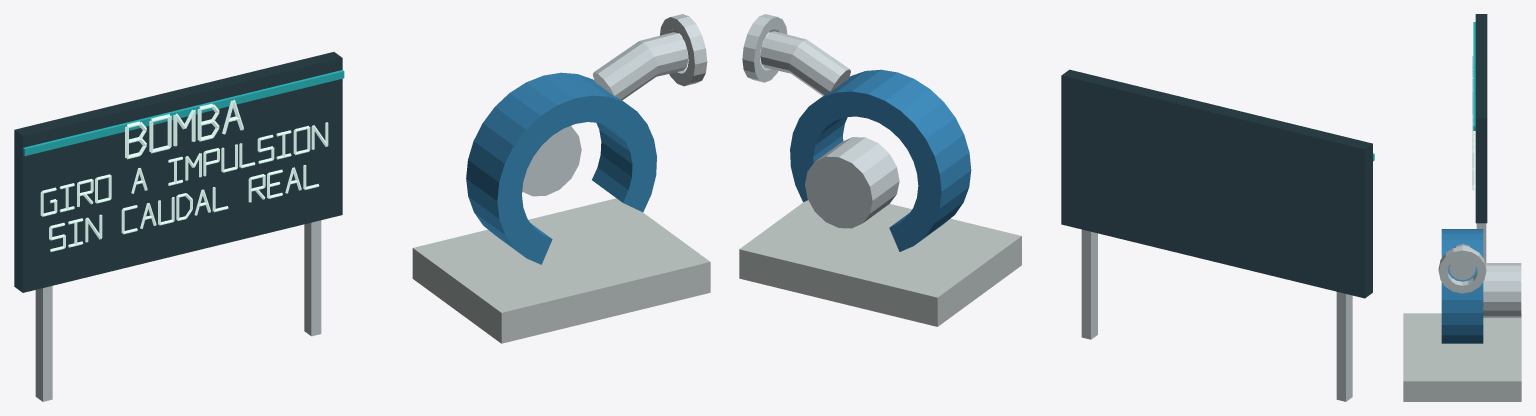
Rendered from AQUA-008.glb.
3 renders of one model, left to right at view 1: azimuth 30°, elevation 25°; view 2: azimuth 150°, elevation 25°; view 3: azimuth 270°, elevation 25°, orthographic. The views are drawn at different scales.
Visible parts, largest first — view 1: AQUA-008; view 2: AQUA-008; view 3: AQUA-008.
Boxes of the visible parts, box(x1,y1,x2,y2) form: AQUA-008: box(14, 14, 710, 401); AQUA-008: box(739, 14, 1374, 401); AQUA-008: box(1403, 14, 1521, 401).
Size of the model in its own units: 5.34 by 2.11 by 1.25.
